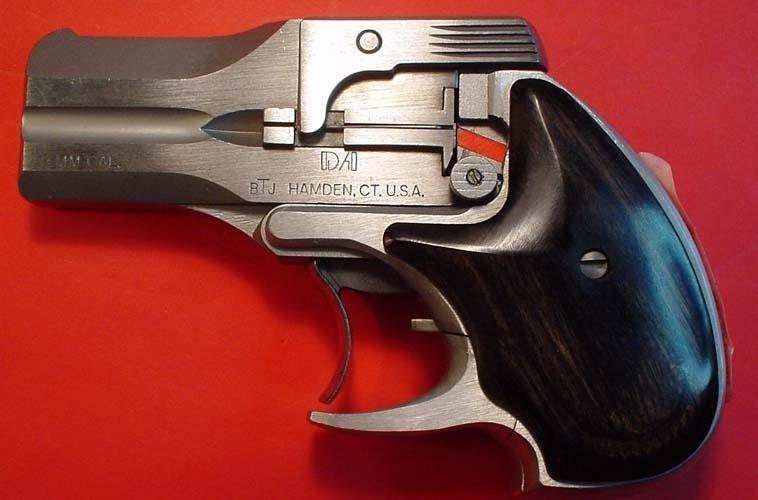gun: (5, 2, 748, 490)
